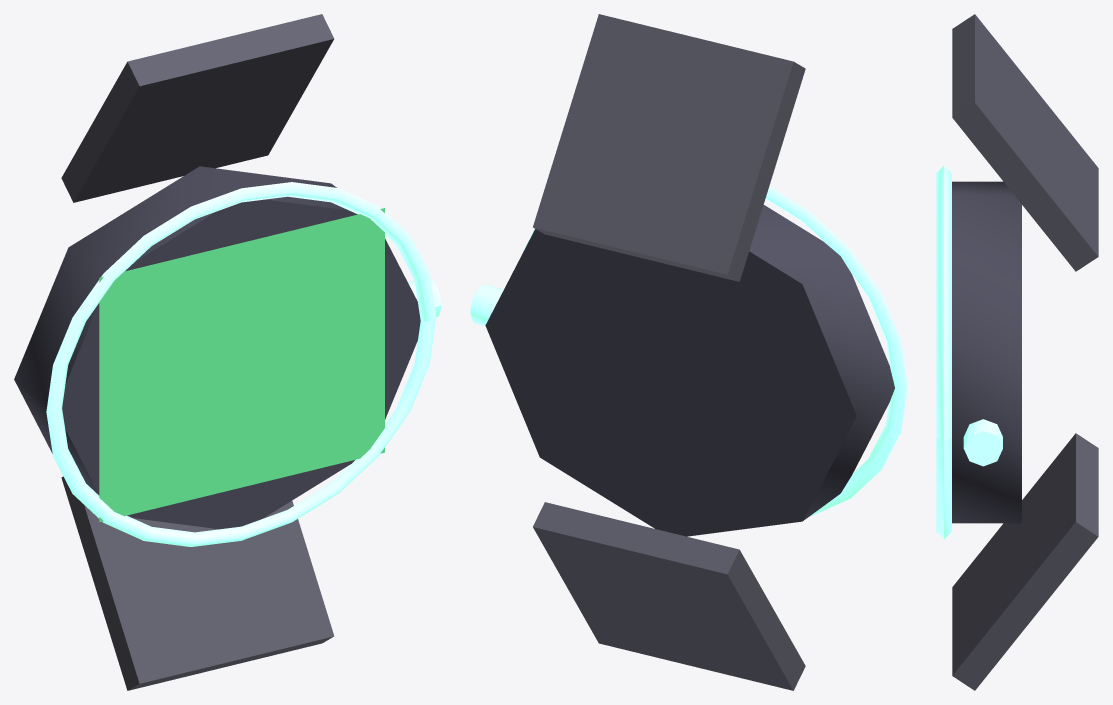
Rendered from watch.glb.
The picture shows the model from 3 angles, left to right: view 1: azimuth 30°, elevation 25°; view 2: azimuth 150°, elevation 25°; view 3: azimuth 270°, elevation 25°; orthographic projection. The views are drawn at different scales.
Visible parts, largest first — view 1: watch_screen, watch_case, watch_strap_bottom, watch_strap_top, watch_glow; view 2: watch_case, watch_strap_top, watch_strap_bottom, watch_glow, watch_crown; view 3: watch_case, watch_strap_top, watch_strap_bottom, watch_glow, watch_crown.
Part boxes in pixels (<box>): watch_screen: <box>99,208,384,522</box>; watch_case: <box>14,166,420,529</box>; watch_strap_bottom: <box>61,476,334,690</box>; watch_strap_top: <box>61,14,334,202</box>; watch_glow: <box>46,182,436,546</box>; watch_case: <box>485,205,894,536</box>; watch_strap_top: <box>533,14,805,281</box>; watch_strap_bottom: <box>533,502,805,690</box>; watch_glow: <box>524,186,907,516</box>; watch_crown: <box>470,285,503,325</box>; watch_case: <box>952,181,1021,523</box>; watch_strap_top: <box>952,14,1098,271</box>; watch_strap_bottom: <box>952,433,1098,690</box>; watch_glow: <box>936,165,951,539</box>; watch_crown: <box>963,419,1002,466</box>.
Bounding box in the file's own units: 0.0625 × 0.0926 × 0.0231.
